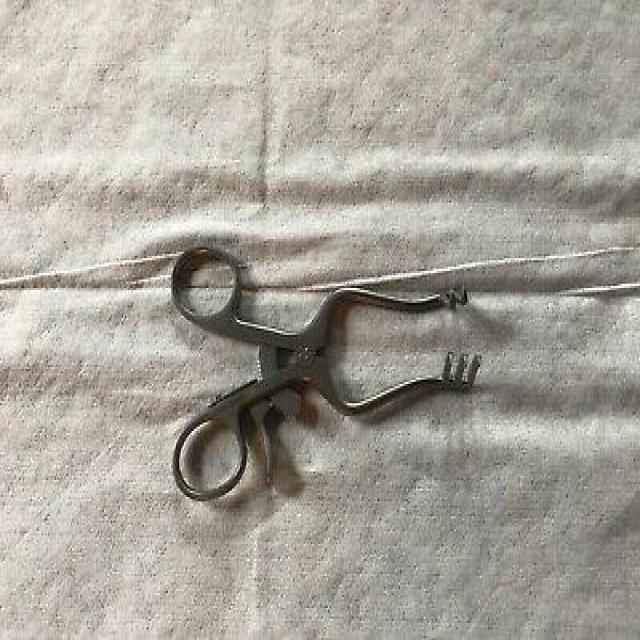Weitlaner: (168, 241, 480, 506)
